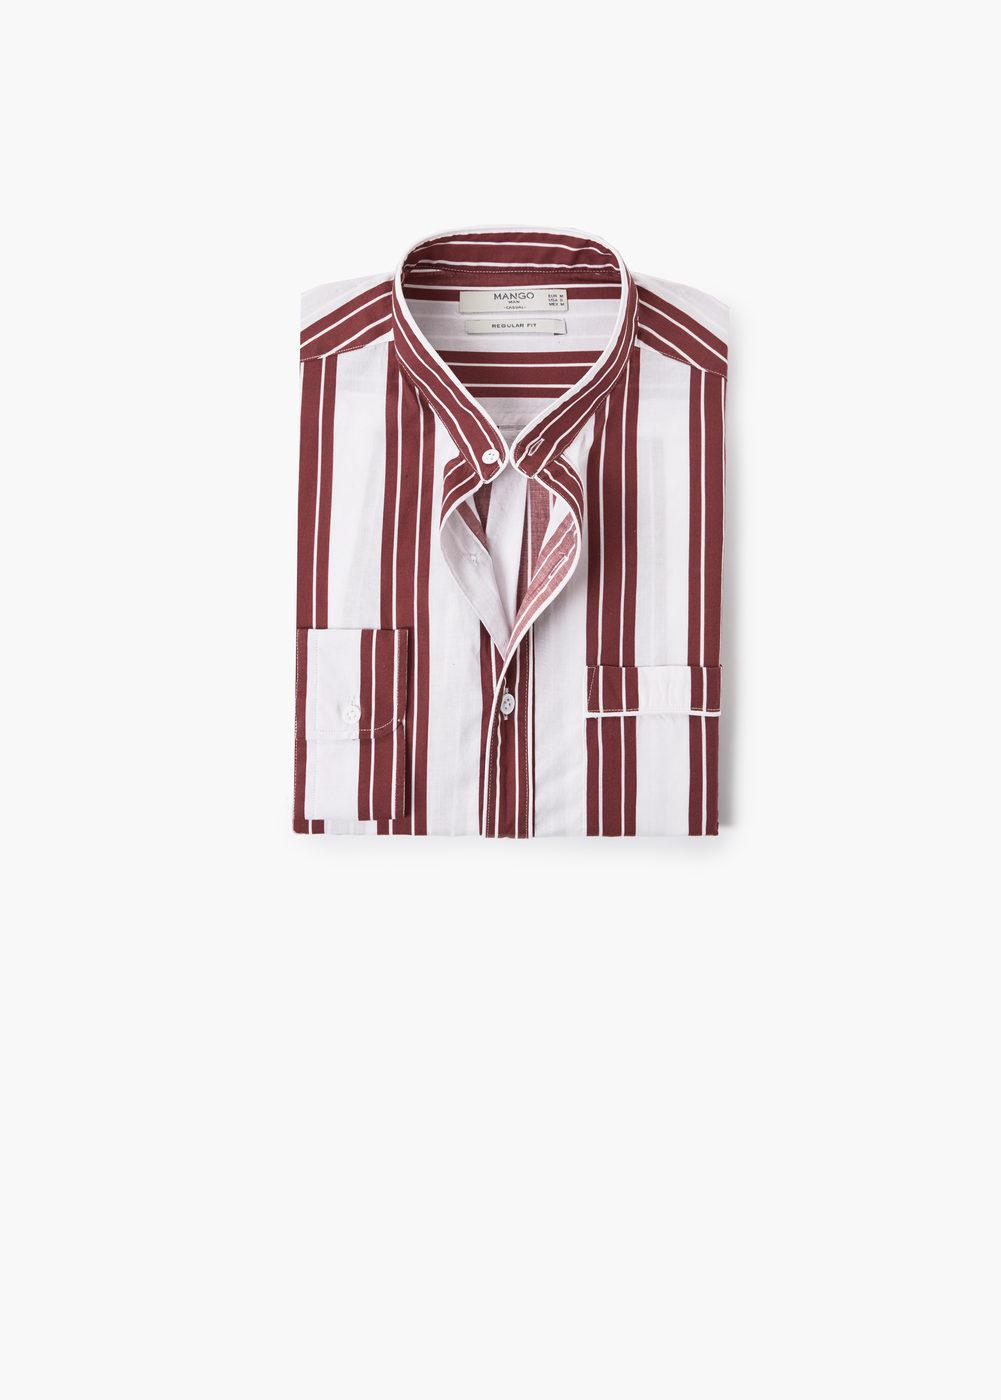teeshirt: (250, 210, 742, 897)
